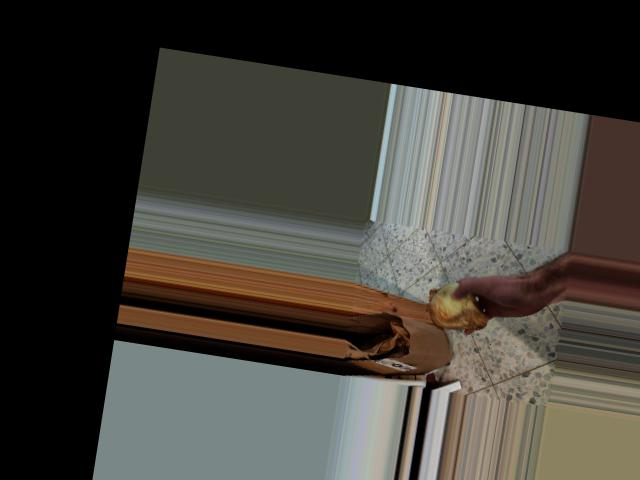onion: (421, 277, 497, 338)
